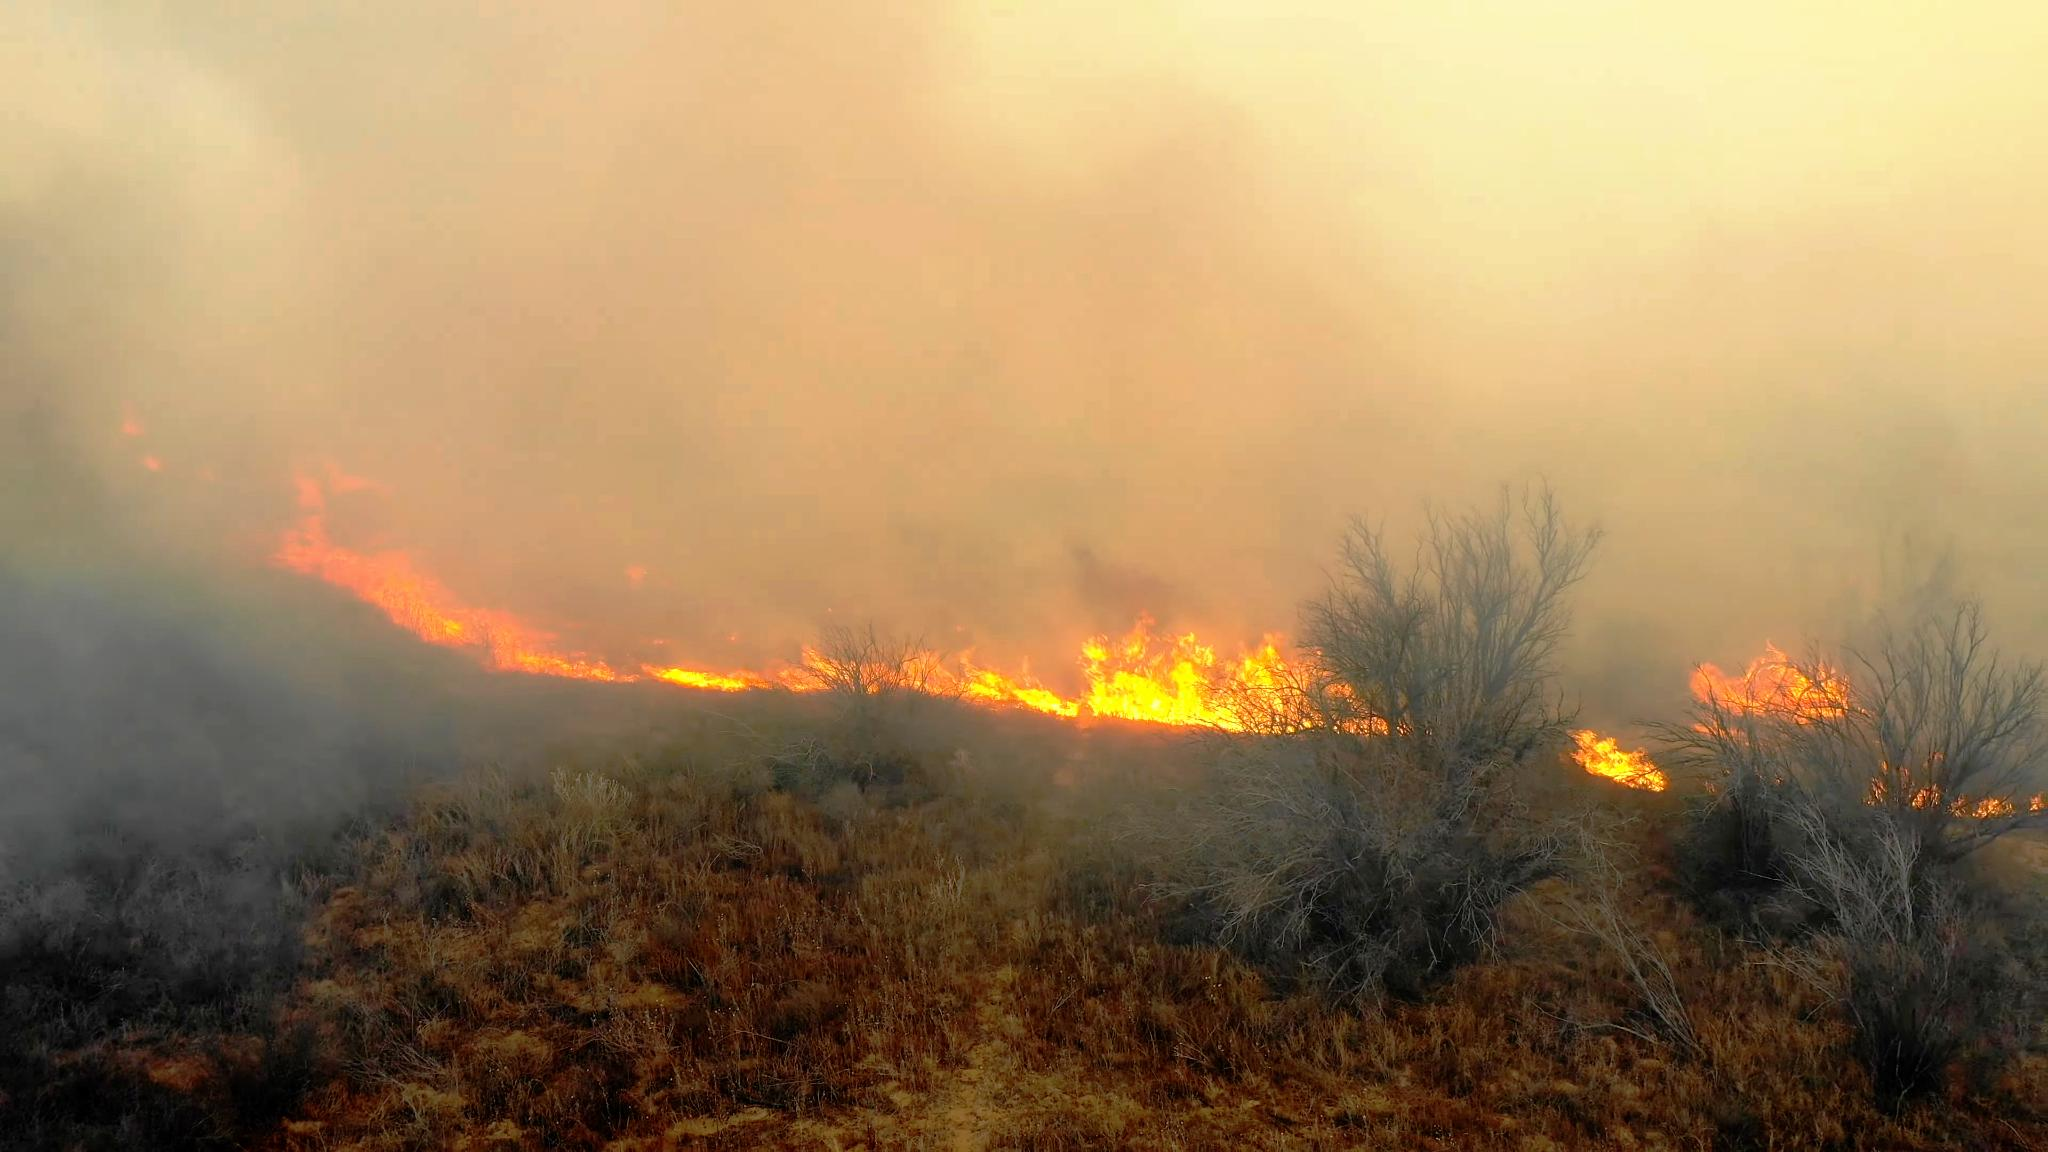fire: (1065, 612, 1366, 738), (1701, 648, 1845, 723)
smoke: (388, 0, 2048, 366)
